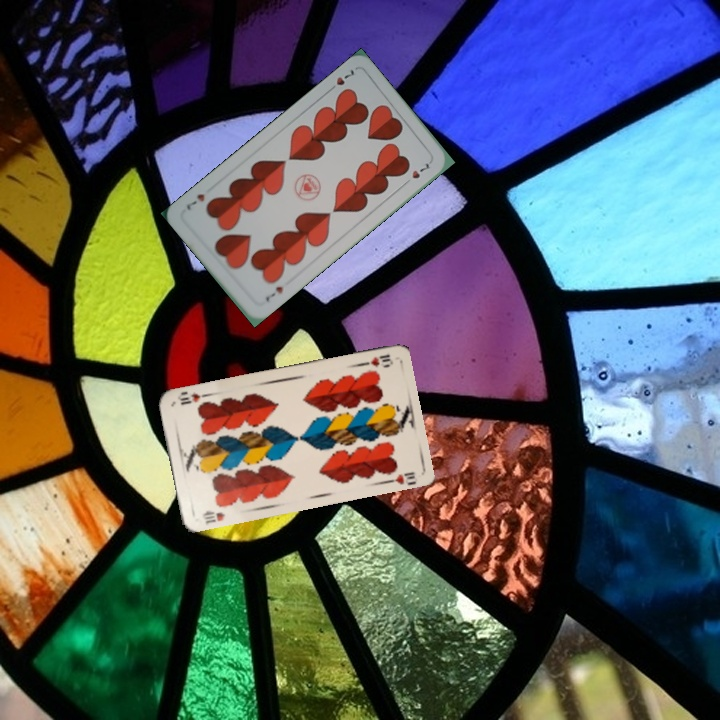H10: (355, 350, 395, 369), (198, 506, 228, 527)
H7: (324, 64, 357, 95), (261, 282, 285, 304)
